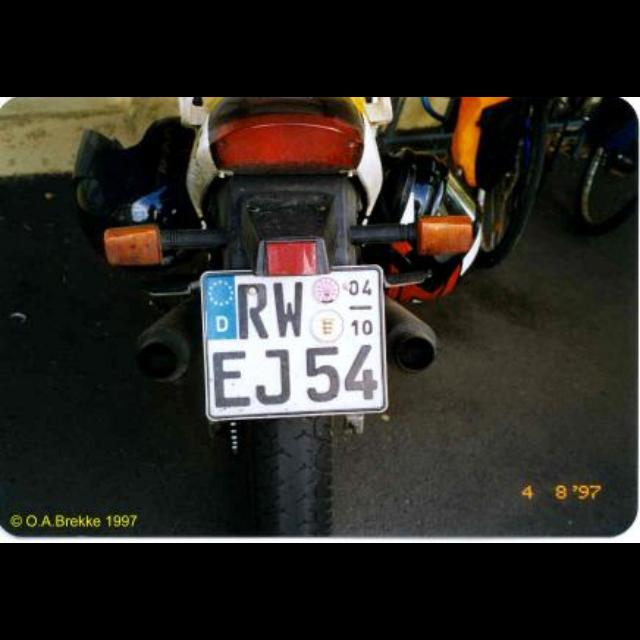d_license_plate: (202, 266, 386, 416)
